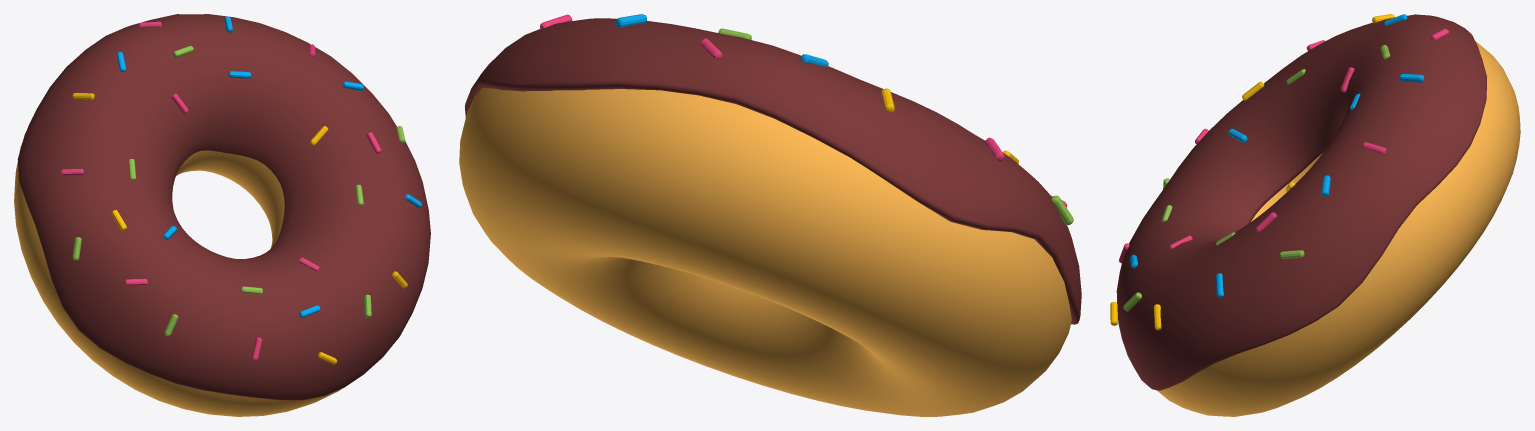
Rendered from doughnut.glb.
The picture shows the model from 3 angles, left to right: view 1: azimuth 30°, elevation 25°; view 2: azimuth 150°, elevation 25°; view 3: azimuth 270°, elevation 25°; orthographic projection. The views are drawn at different scales.
Parts seen in each view (by area): view 1: Torus.006; view 2: Torus.006; view 3: Torus.006.
Boxes of the visible parts, <box> form: Torus.006: <box>14,14,430,416</box>; Torus.006: <box>459,14,1081,416</box>; Torus.006: <box>1110,14,1520,416</box>.
Bounding box in the file's own units: 2.24 × 1.78 × 1.9.
Materials: 1 (1 with a texture image).
